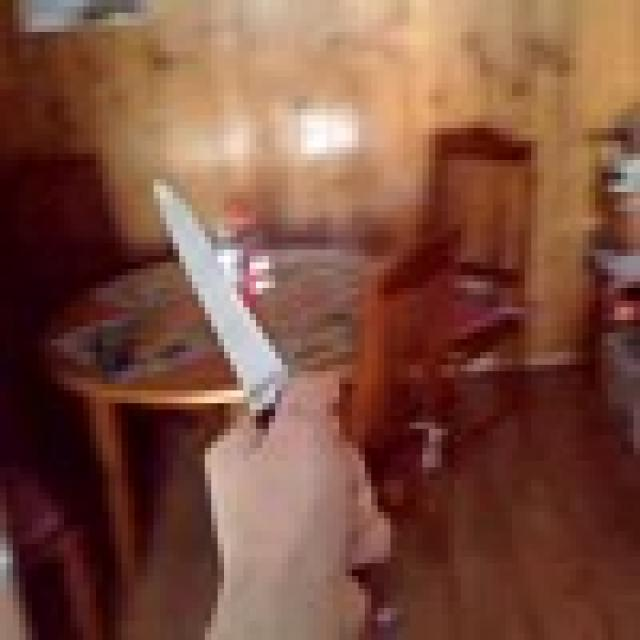Knife: (153, 179, 364, 557)
